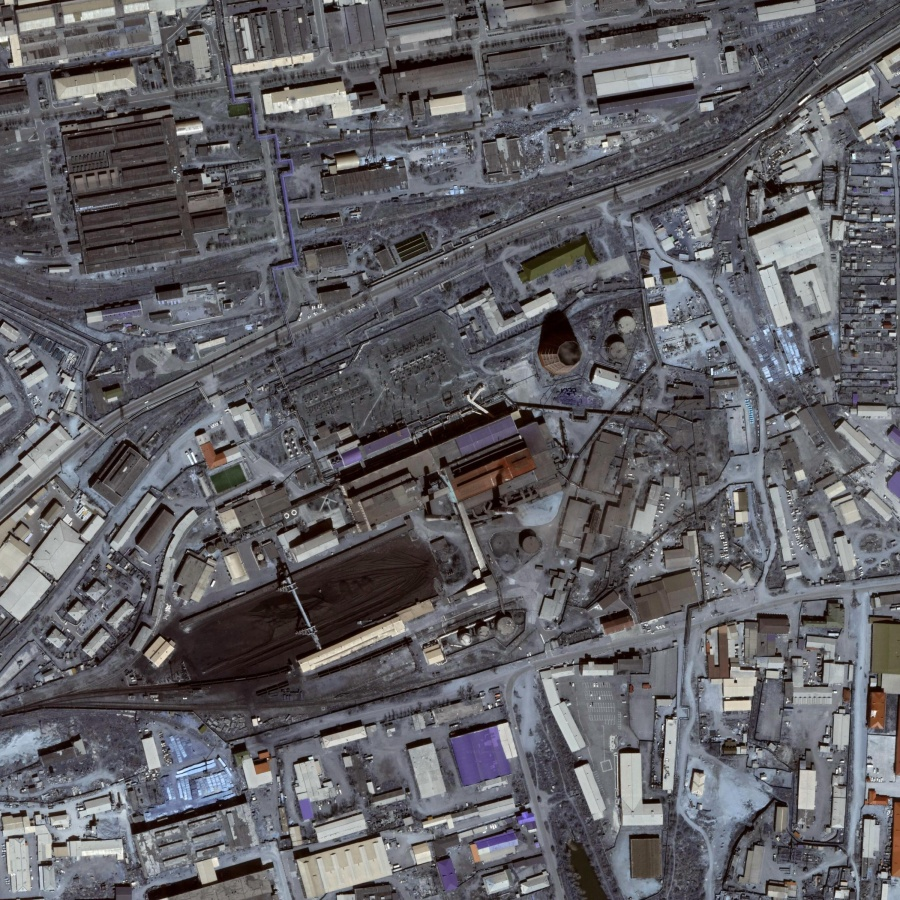PowerPlant: (164, 309, 645, 691)
